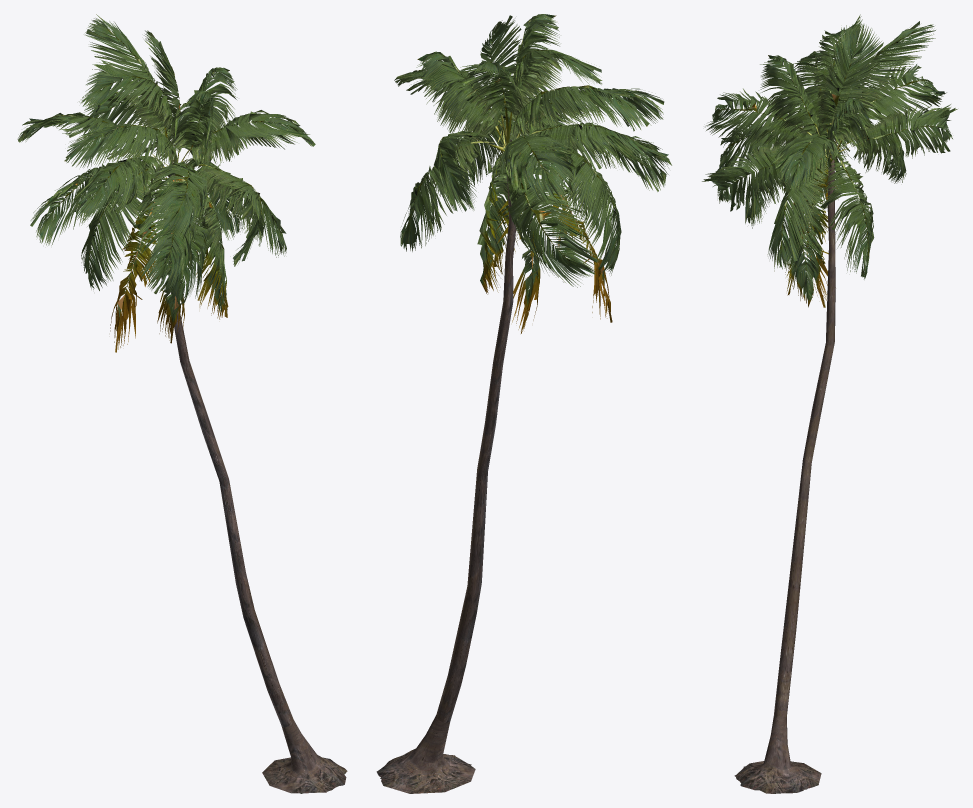
Rendered from Palm_tall.obj.
3 views of the same model, side by side, from view 1: azimuth 30°, elevation 25°; view 2: azimuth 150°, elevation 25°; view 3: azimuth 270°, elevation 25° (orthographic). The views are drawn at different scales.
Parts seen in each view (by area): view 1: Mesh115 archmodels85_018_04 Group1 Model, Mesh18 archmodels85_018_03 Group1 Model, Mesh97 archmodels85_018_01 Group1 Model, Mesh56 archmodels85_018_01 Group1 Model, Mesh64 archmodels85_018_01 Group1 Model, Mesh133 archmodels85_018_02 Group1 Model, Mesh109 archmodels85_018_01 Group1 Model, Mesh127 archmodels85_018_02 Group1 Model, Mesh36 archmodels85_018_03 Group1 Model, Mesh83 archmodels85_018_01 Group1 Model, Mesh25 archmodels85_018_03 Group1 Model, Mesh45 archmodels85_018_01 Group1 Model (+12 smaller); view 2: Mesh115 archmodels85_018_04 Group1 Model, Mesh153 archmodels85_018_02 Group1 Model, Mesh45 archmodels85_018_01 Group1 Model, Mesh40 archmodels85_018_03 Group1 Model, Mesh127 archmodels85_018_02 Group1 Model, Mesh18 archmodels85_018_03 Group1 Model, Mesh97 archmodels85_018_01 Group1 Model, Mesh2 archmodels85_018_03 Group1 Model, Mesh64 archmodels85_018_01 Group1 Model, Mesh36 archmodels85_018_03 Group1 Model, Mesh184 archmodels85_018_02 Group1 Model, Mesh109 archmodels85_018_01 Group1 Model (+11 smaller); view 3: Mesh115 archmodels85_018_04 Group1 Model, Mesh18 archmodels85_018_03 Group1 Model, Mesh2 archmodels85_018_03 Group1 Model, Mesh64 archmodels85_018_01 Group1 Model, Mesh9 archmodels85_018_03 Group1 Model, Mesh83 archmodels85_018_01 Group1 Model, Mesh36 archmodels85_018_03 Group1 Model, Mesh45 archmodels85_018_01 Group1 Model, Mesh127 archmodels85_018_02 Group1 Model, Mesh184 archmodels85_018_02 Group1 Model, Mesh25 archmodels85_018_03 Group1 Model, Mesh40 archmodels85_018_03 Group1 Model (+8 smaller).
Part boxes in pixels (box(x1,y1,x2,y2)): Mesh115 archmodels85_018_04 Group1 Model: box(168, 160, 347, 793); Mesh18 archmodels85_018_03 Group1 Model: box(181, 110, 315, 257); Mesh97 archmodels85_018_01 Group1 Model: box(98, 156, 198, 292); Mesh56 archmodels85_018_01 Group1 Model: box(82, 60, 175, 138); Mesh64 archmodels85_018_01 Group1 Model: box(132, 128, 206, 239); Mesh133 archmodels85_018_02 Group1 Model: box(110, 202, 157, 352); Mesh109 archmodels85_018_01 Group1 Model: box(68, 162, 136, 222); Mesh127 archmodels85_018_02 Group1 Model: box(193, 194, 228, 319); Mesh36 archmodels85_018_03 Group1 Model: box(162, 90, 213, 164); Mesh83 archmodels85_018_01 Group1 Model: box(199, 168, 265, 261); Mesh25 archmodels85_018_03 Group1 Model: box(85, 14, 151, 80); Mesh45 archmodels85_018_01 Group1 Model: box(21, 112, 164, 167); Mesh115 archmodels85_018_04 Group1 Model: box(376, 140, 516, 793); Mesh153 archmodels85_018_02 Group1 Model: box(507, 155, 597, 286); Mesh45 archmodels85_018_01 Group1 Model: box(496, 134, 576, 206); Mesh40 archmodels85_018_03 Group1 Model: box(416, 51, 502, 138); Mesh127 archmodels85_018_02 Group1 Model: box(477, 151, 525, 294); Mesh18 archmodels85_018_03 Group1 Model: box(394, 61, 510, 198); Mesh97 archmodels85_018_01 Group1 Model: box(531, 122, 671, 190); Mesh2 archmodels85_018_03 Group1 Model: box(434, 131, 490, 211); Mesh64 archmodels85_018_01 Group1 Model: box(509, 88, 664, 141); Mesh36 archmodels85_018_03 Group1 Model: box(506, 17, 563, 110); Mesh184 archmodels85_018_02 Group1 Model: box(400, 166, 446, 251); Mesh109 archmodels85_018_01 Group1 Model: box(582, 122, 667, 170); Mesh115 archmodels85_018_04 Group1 Model: box(734, 155, 835, 793); Mesh18 archmodels85_018_03 Group1 Model: box(767, 133, 845, 271); Mesh2 archmodels85_018_03 Group1 Model: box(861, 104, 957, 158); Mesh64 archmodels85_018_01 Group1 Model: box(705, 88, 838, 160); Mesh9 archmodels85_018_03 Group1 Model: box(815, 27, 883, 131); Mesh83 archmodels85_018_01 Group1 Model: box(702, 142, 801, 211); Mesh36 archmodels85_018_03 Group1 Model: box(760, 55, 819, 135); Mesh45 archmodels85_018_01 Group1 Model: box(837, 64, 946, 149); Mesh127 archmodels85_018_02 Group1 Model: box(785, 174, 825, 307); Mesh184 archmodels85_018_02 Group1 Model: box(835, 200, 874, 279); Mesh25 archmodels85_018_03 Group1 Model: box(864, 24, 935, 78); Mesh40 archmodels85_018_03 Group1 Model: box(826, 97, 873, 156).
Size of the model in its own units: 3.41 by 9.24 by 3.07.
